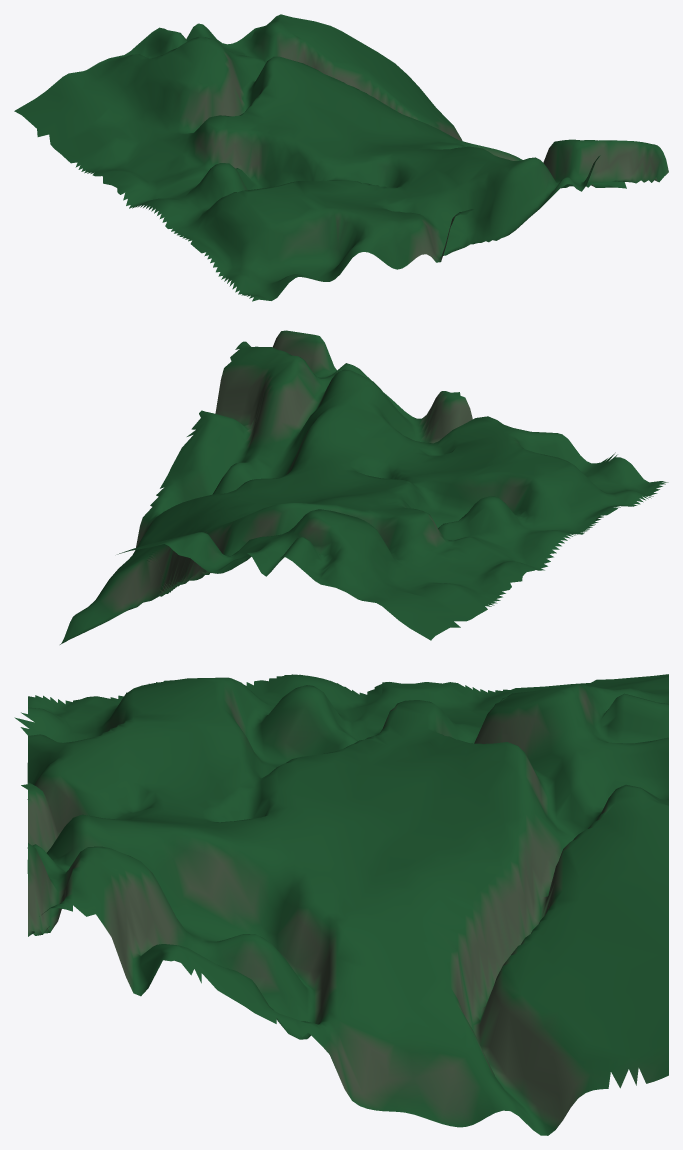
The model's file is payo_land_x1_y3_lod1.glb.
3 views of the same model, one above another, from view 1: azimuth 30°, elevation 25°; view 2: azimuth 150°, elevation 25°; view 3: azimuth 270°, elevation 25° (orthographic). The views are drawn at different scales.
Visible parts, largest first — view 1: payo_land_x1_y3; view 2: payo_land_x1_y3; view 3: payo_land_x1_y3.
Boxes of the visible parts, x1,y1,x2,y2 form: payo_land_x1_y3: (14, 14, 668, 301); payo_land_x1_y3: (60, 330, 668, 644); payo_land_x1_y3: (14, 674, 668, 1135).
Size of the model in its own units: 261 by 120 by 261.
